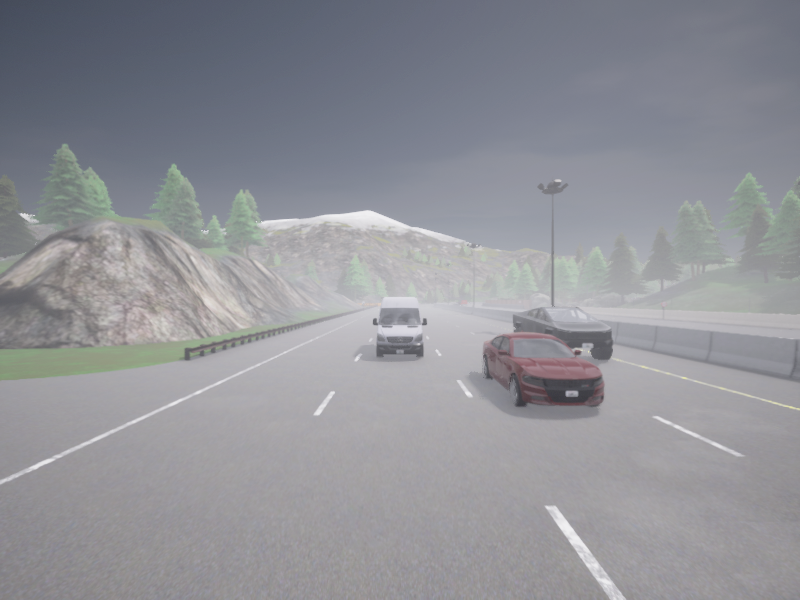vehicle: (482, 330, 604, 406), (513, 307, 612, 359), (373, 297, 426, 358), (461, 300, 467, 305), (452, 303, 458, 305), (458, 301, 461, 304)
